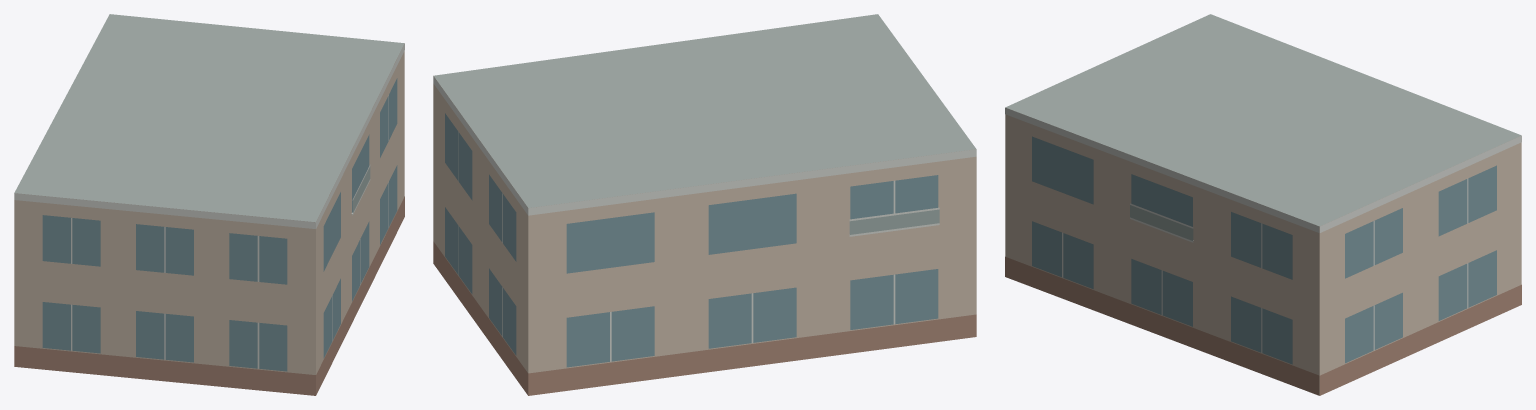
File: survey-upis-32762560.glb
The picture shows the model from 3 angles, left to right: view 1: azimuth 30°, elevation 25°; view 2: azimuth 150°, elevation 25°; view 3: azimuth 270°, elevation 25°; orthographic projection. The views are drawn at different scales.
Parts seen in each view (by area): view 1: survey-upis-32762560.tmp; view 2: survey-upis-32762560.tmp; view 3: survey-upis-32762560.tmp.
Boxes of the visible parts, box(x1,y1,x2,y2) form: survey-upis-32762560.tmp: box(14, 14, 404, 395); survey-upis-32762560.tmp: box(433, 14, 976, 395); survey-upis-32762560.tmp: box(1005, 14, 1521, 395).
Size of the model in its own units: 16.42 by 6.1 by 16.87.
